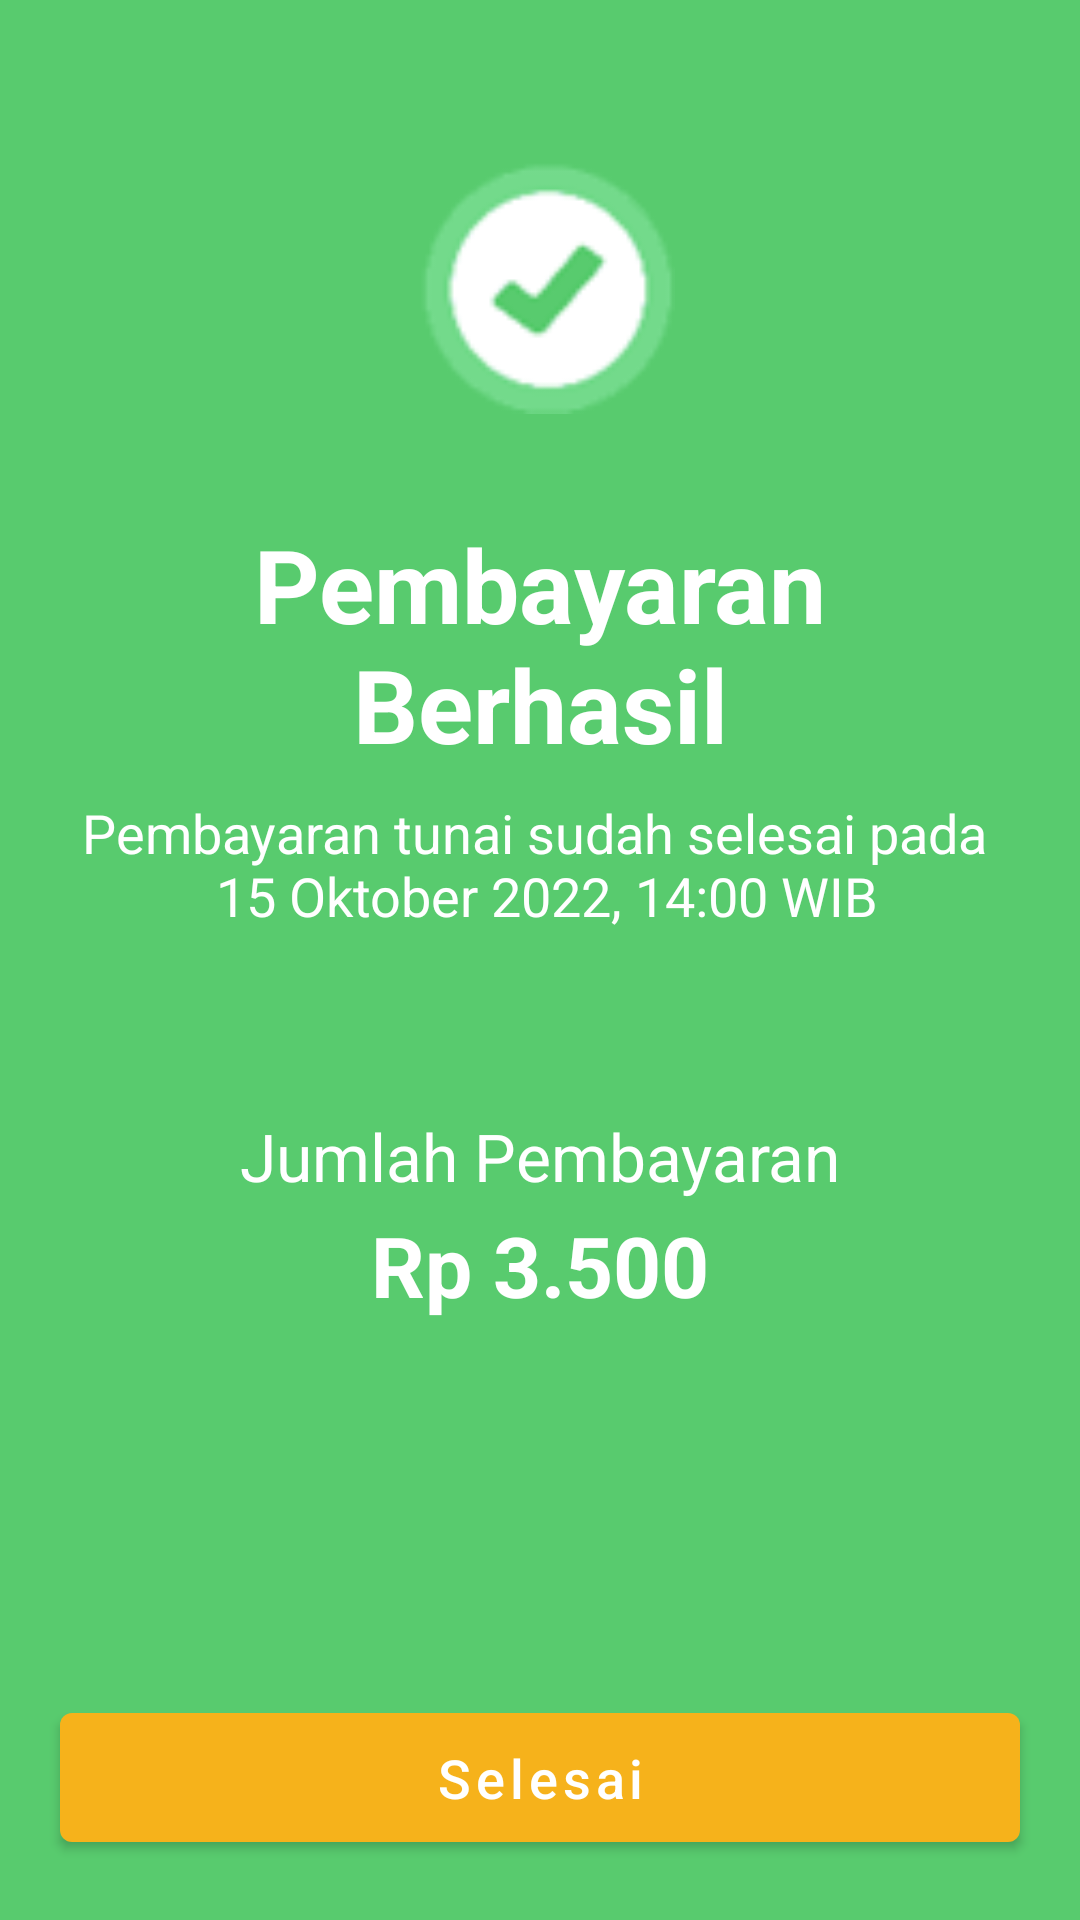

Screen size 1080w x 1920h. Icon name, then its box in pixels as (x1, y1, x2, y2):
success: (427, 170, 670, 409)
